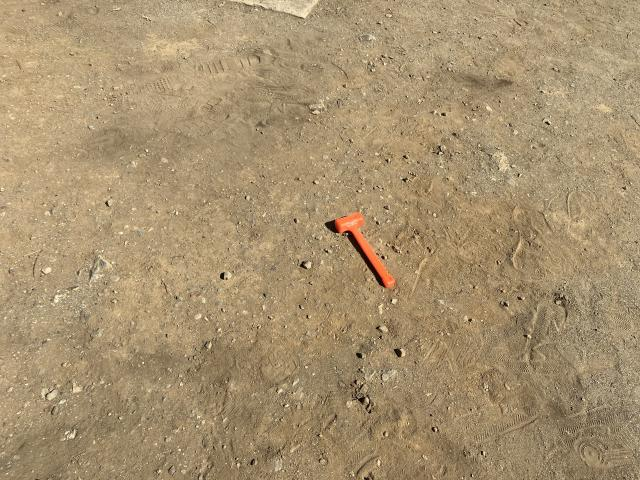hammer: (332, 210, 398, 288)
